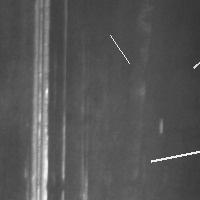scratches: (26, 1, 53, 200), (146, 145, 200, 166), (105, 30, 134, 68), (189, 38, 200, 72)
